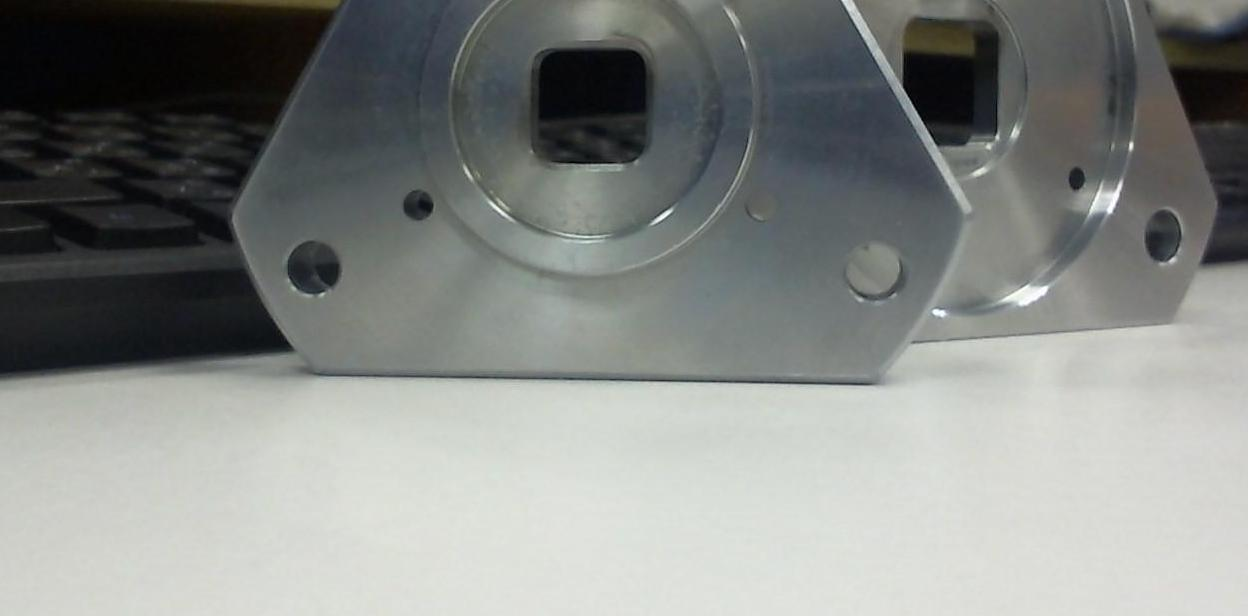hole: (835, 230, 914, 311), (282, 229, 346, 303), (1137, 198, 1190, 272)
